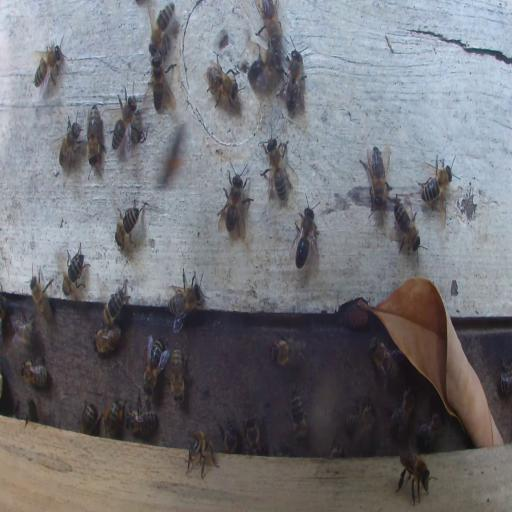nonpollenbee: (216, 161, 254, 238), (111, 80, 146, 160), (167, 266, 209, 324), (291, 194, 320, 270), (417, 152, 454, 211), (260, 135, 292, 202), (362, 142, 391, 214), (396, 451, 434, 505), (278, 45, 308, 113), (32, 40, 65, 96), (392, 195, 422, 255), (184, 427, 218, 479), (204, 60, 238, 108), (388, 385, 416, 441), (268, 330, 307, 370), (370, 337, 399, 386), (63, 242, 89, 296), (114, 202, 143, 250), (100, 282, 130, 328), (148, 3, 174, 56), (29, 270, 54, 322), (86, 102, 104, 174), (59, 116, 82, 172), (345, 398, 377, 438), (148, 51, 169, 111), (249, 50, 282, 88), (143, 337, 164, 394), (254, 0, 280, 45), (288, 390, 308, 444), (416, 411, 444, 448), (126, 408, 157, 438), (170, 346, 186, 404), (20, 356, 48, 389), (10, 310, 35, 345), (93, 324, 121, 354), (244, 415, 262, 455), (218, 420, 239, 454), (81, 402, 98, 432), (500, 359, 512, 398), (25, 400, 38, 424)
pollenbee: (156, 123, 186, 192), (102, 400, 124, 436)
